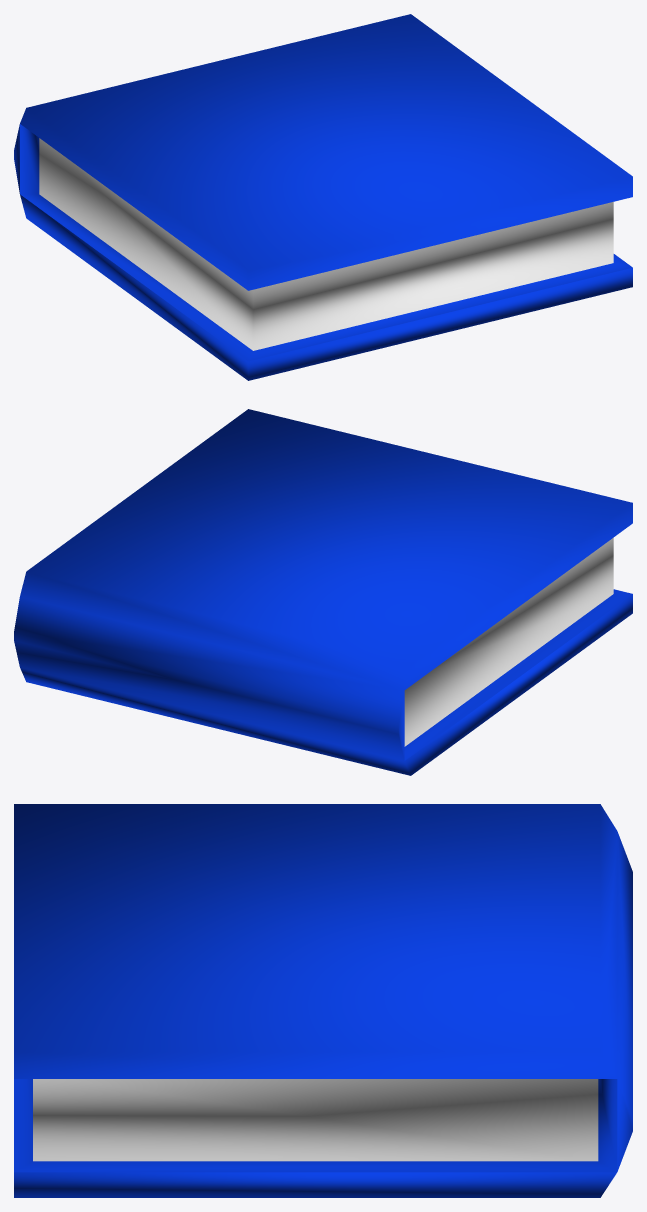
Rendered from Book Blue.fbx.
3 views of the same model, one above another, from view 1: azimuth 30°, elevation 25°; view 2: azimuth 150°, elevation 25°; view 3: azimuth 270°, elevation 25° (orthographic). The views are drawn at different scales.
Visible parts, largest first — view 1: Cube; view 2: Cube; view 3: Cube.
Boxes of the visible parts, box(x1,y1,x2,y2) form: Cube: box(14, 14, 632, 380); Cube: box(14, 409, 632, 775); Cube: box(14, 804, 632, 1197).
Size of the model in its own units: 91.21 by 25.05 by 96.26.
